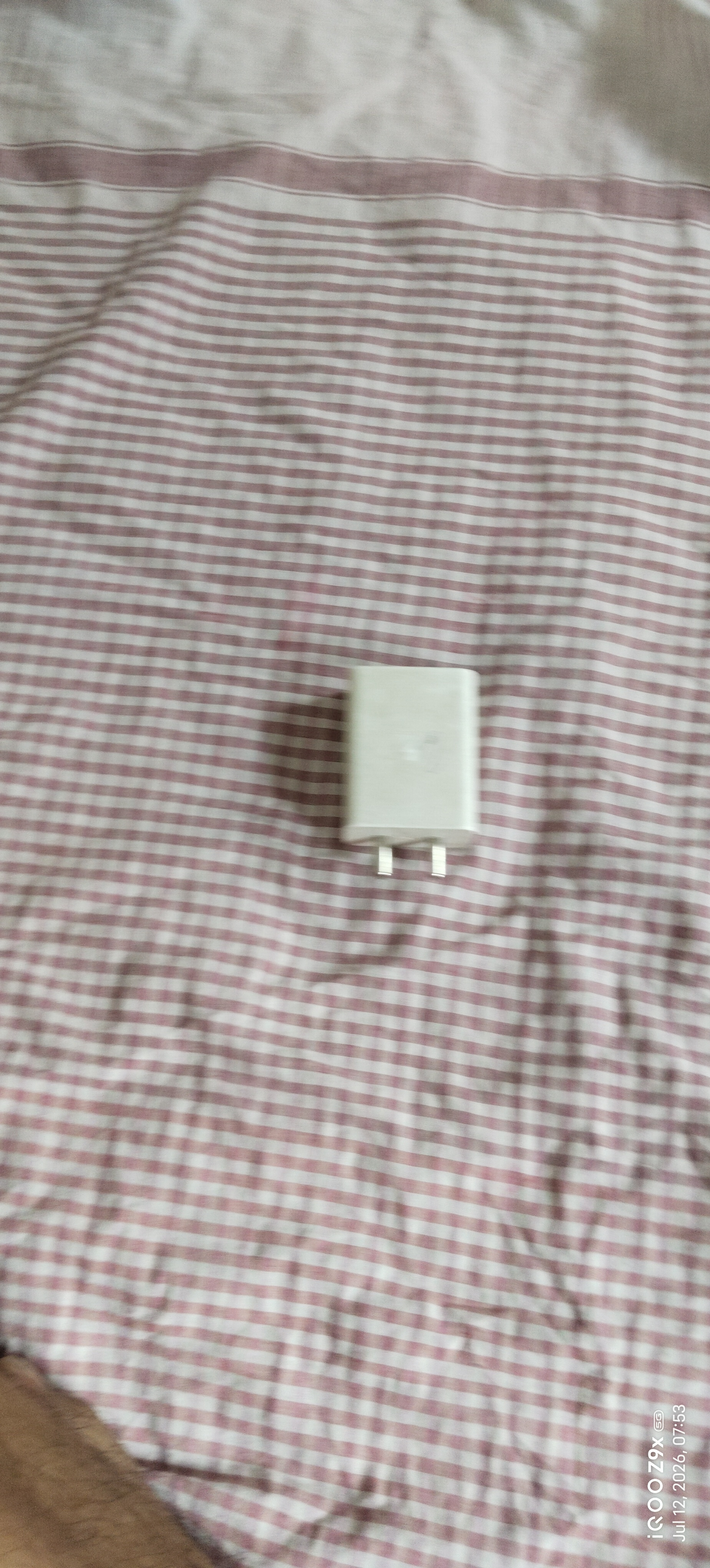charger: (325, 635, 513, 898)
